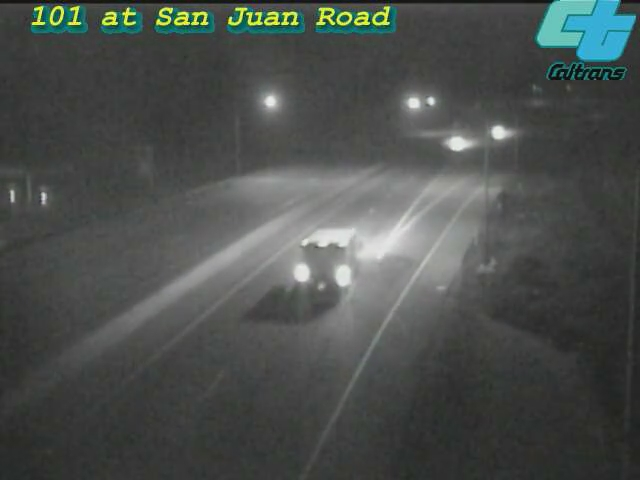vehicle: (282, 230, 362, 310), (472, 108, 522, 158), (429, 118, 479, 168)
